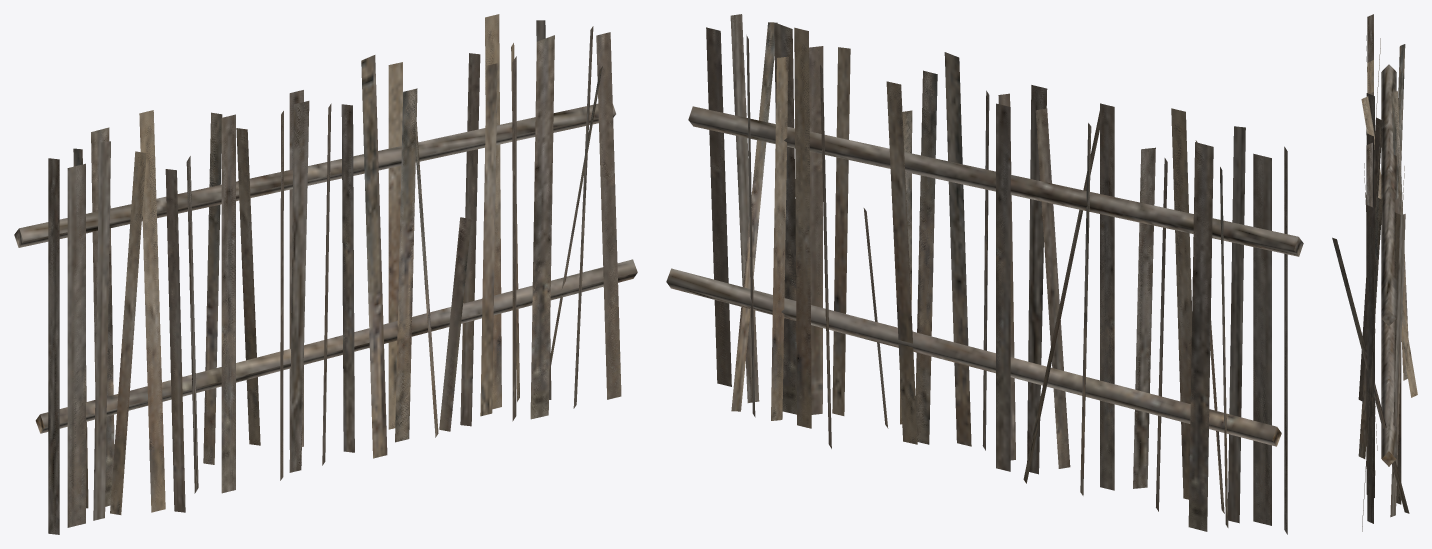
The model's file is Fence1_LOD1.fbx.
The picture shows the model from 3 angles, left to right: view 1: azimuth 30°, elevation 25°; view 2: azimuth 150°, elevation 25°; view 3: azimuth 270°, elevation 25°; orthographic projection. The views are drawn at different scales.
Parts seen in each view (by area): view 1: polySurface170; view 2: polySurface170; view 3: polySurface170.
Part boxes in pixels (x1,y1,x2,y2): polySurface170: (14,14,637,534); polySurface170: (666,14,1303,534); polySurface170: (1332,14,1417,531).
Bounding box in the file's own units: 2.4 × 1.51 × 0.3606.
